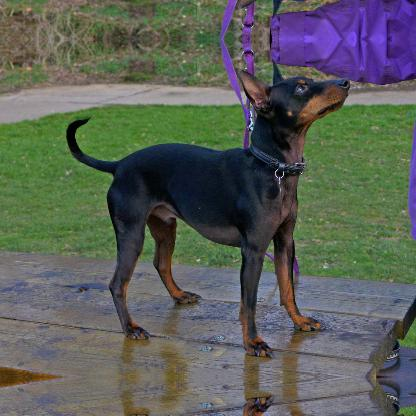Dog: (66, 56, 350, 356)
